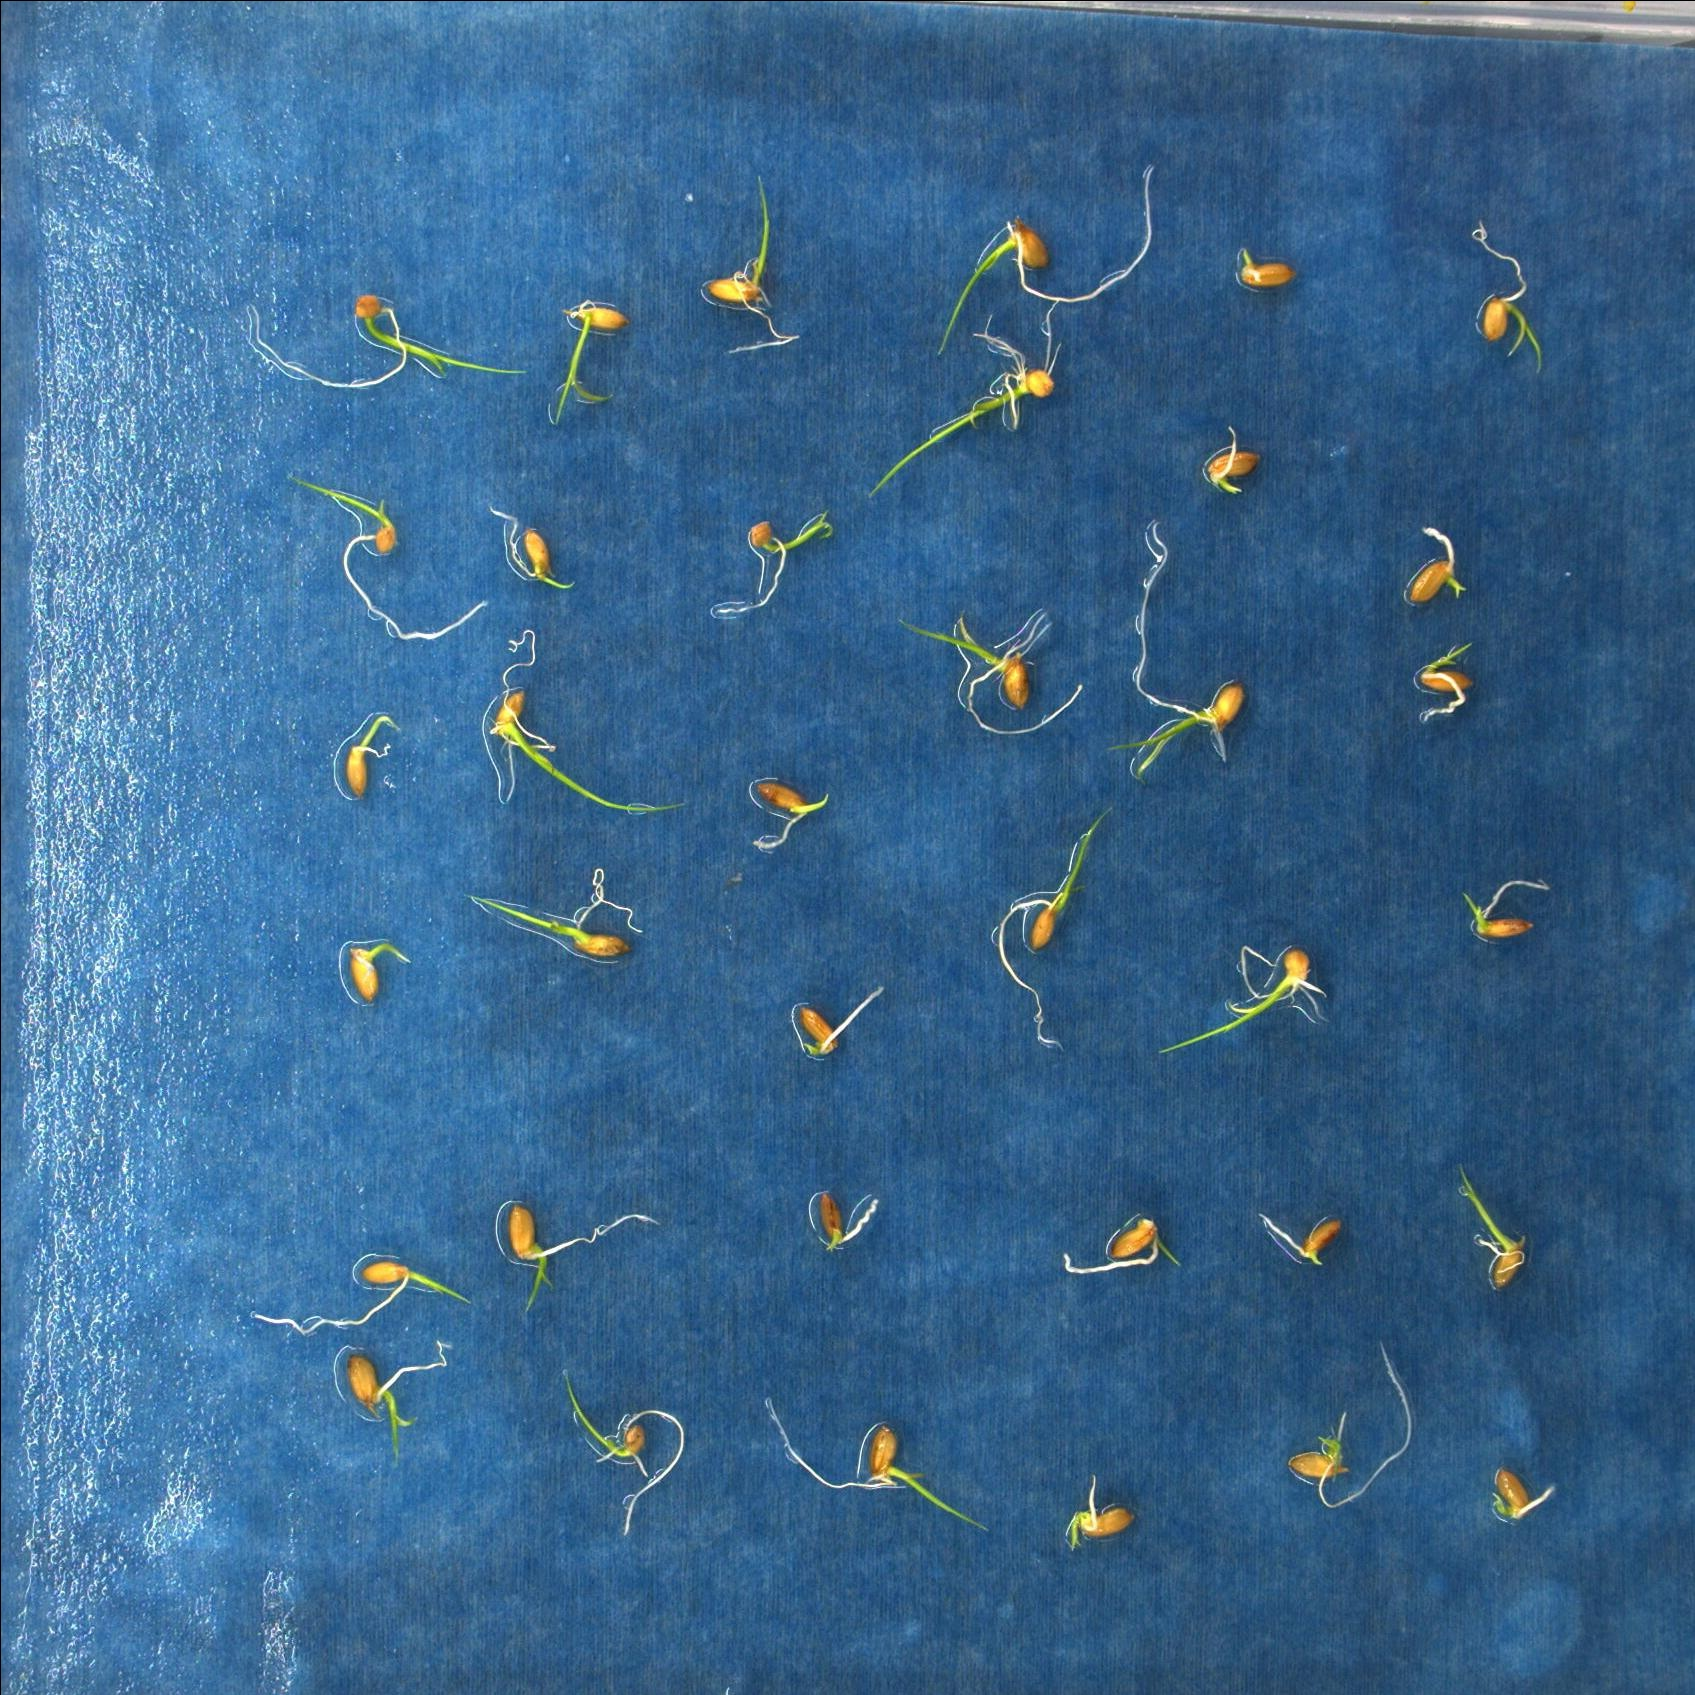not sprout: (1229, 248, 1302, 290)
sprout: (934, 158, 1167, 360), (863, 300, 1066, 500), (483, 629, 692, 820), (1108, 514, 1250, 790), (278, 469, 492, 643), (754, 1389, 998, 1537), (986, 801, 1121, 1049), (227, 290, 531, 390), (893, 605, 1083, 737), (554, 1363, 688, 1541), (1284, 1340, 1422, 1512), (1152, 941, 1332, 1060), (695, 174, 806, 354), (501, 1197, 661, 1319), (466, 865, 646, 967), (245, 1260, 472, 1340), (712, 504, 838, 626), (1461, 220, 1548, 380), (348, 1336, 459, 1458), (542, 298, 629, 428), (1451, 1158, 1530, 1290), (483, 498, 576, 594), (1059, 1215, 1183, 1281), (798, 979, 889, 1062), (750, 775, 830, 855), (1251, 1205, 1346, 1270), (1063, 1475, 1139, 1554), (1462, 874, 1552, 941), (1416, 633, 1479, 726), (1405, 523, 1468, 608), (345, 705, 397, 802), (1200, 425, 1263, 500), (345, 934, 411, 1001), (816, 1187, 882, 1256), (1489, 1465, 1560, 1524)
